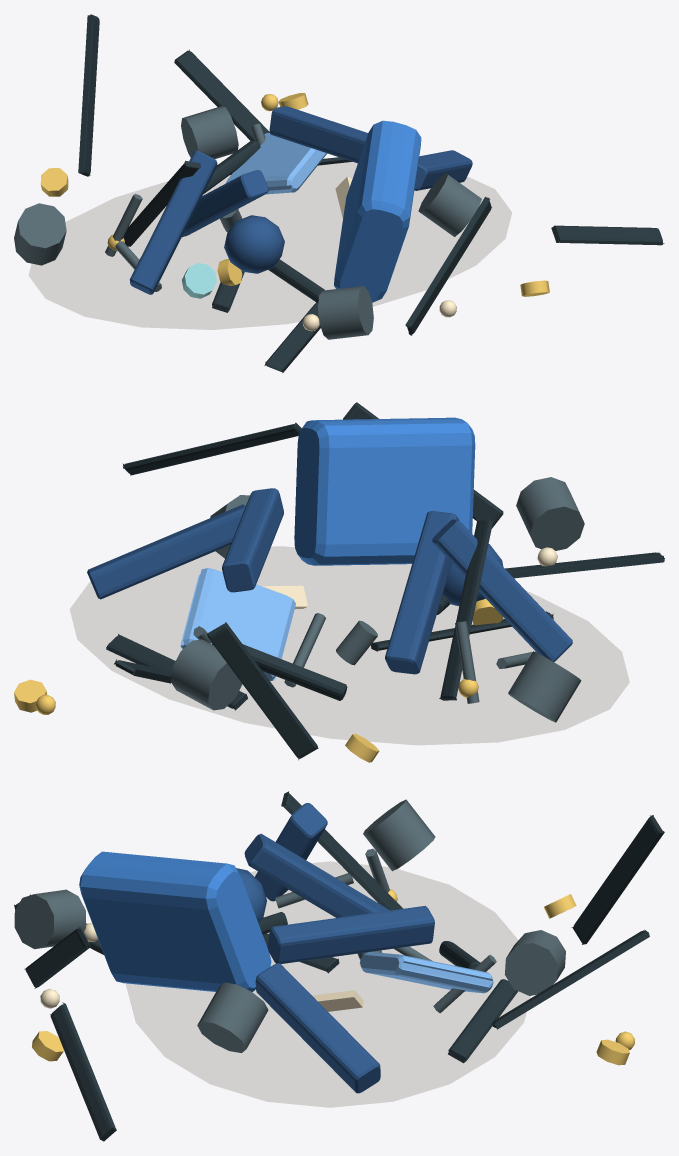
The model's file is drone-blue-broken.glb.
3 views of the same model, one above another, from view 1: azimuth 30°, elevation 25°; view 2: azimuth 150°, elevation 25°; view 3: azimuth 270°, elevation 25° (orthographic). The views are drawn at different scales.
Visible parts, largest first — view 1: settled-toy-pieces (×8), impact-mark; view 2: settled-toy-pieces (×7), impact-mark; view 3: settled-toy-pieces (×7), impact-mark.
Boxes of the visible parts, x1,y1,x2,y2 form: settled-toy-pieces (×8): [14, 14, 664, 372]; impact-mark: [29, 162, 511, 329]; settled-toy-pieces (×7): [14, 402, 664, 762]; impact-mark: [70, 546, 629, 744]; settled-toy-pieces (×7): [14, 791, 664, 1141]; impact-mark: [126, 861, 530, 1107].
Size of the model in its own units: 2.53 by 0.6566 by 2.46.
